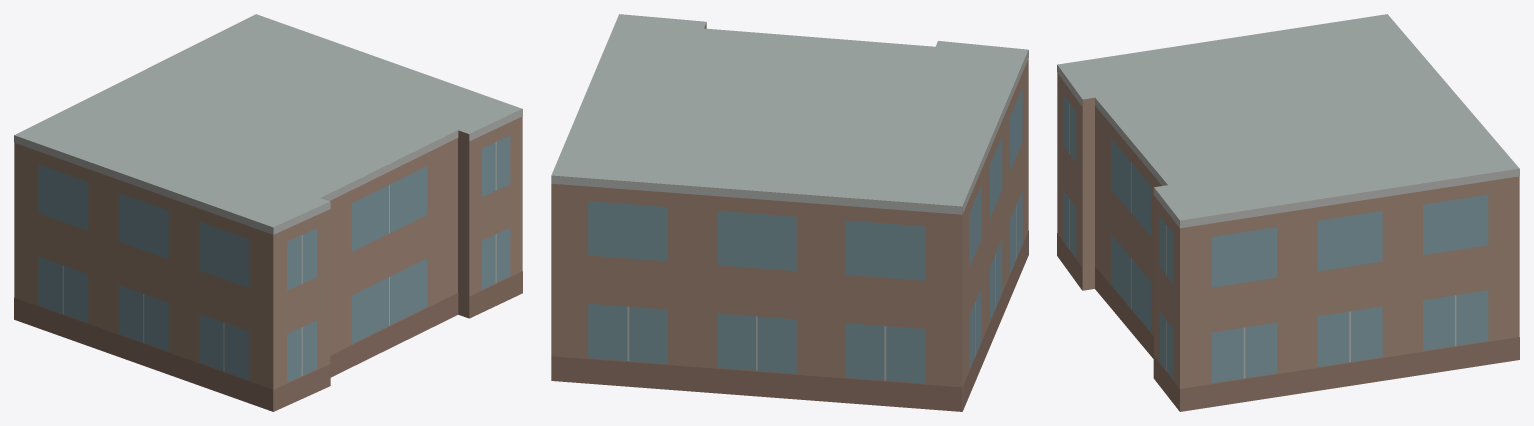
File: survey-upis-32860251.glb
The picture shows the model from 3 angles, left to right: view 1: azimuth 30°, elevation 25°; view 2: azimuth 150°, elevation 25°; view 3: azimuth 270°, elevation 25°; orthographic projection. The views are drawn at different scales.
Visible parts, largest first — view 1: survey-upis-32860251.tmp; view 2: survey-upis-32860251.tmp; view 3: survey-upis-32860251.tmp.
Part boxes in pixels (x1,y1,x2,y2): survey-upis-32860251.tmp: (14,14,522,411); survey-upis-32860251.tmp: (551,14,1028,411); survey-upis-32860251.tmp: (1057,14,1519,411).
Bounding box in the file's own units: 14.15 × 6.1 × 13.38.
